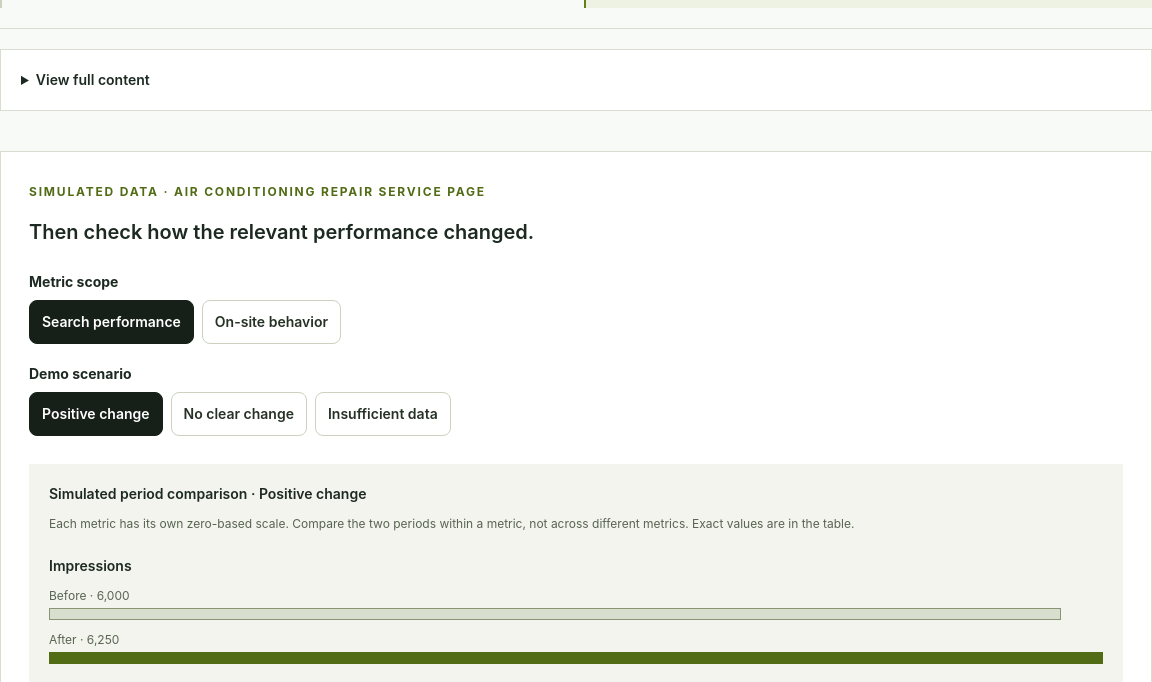
Test: simulated implementation review › changes metric scope and preserves the distinction between events and leads
The image size is (1152, 682).
(page scrolled)
Click the button "On-site behavior". click: (272,322)
box: [202, 300, 341, 344]
(page scrolled)
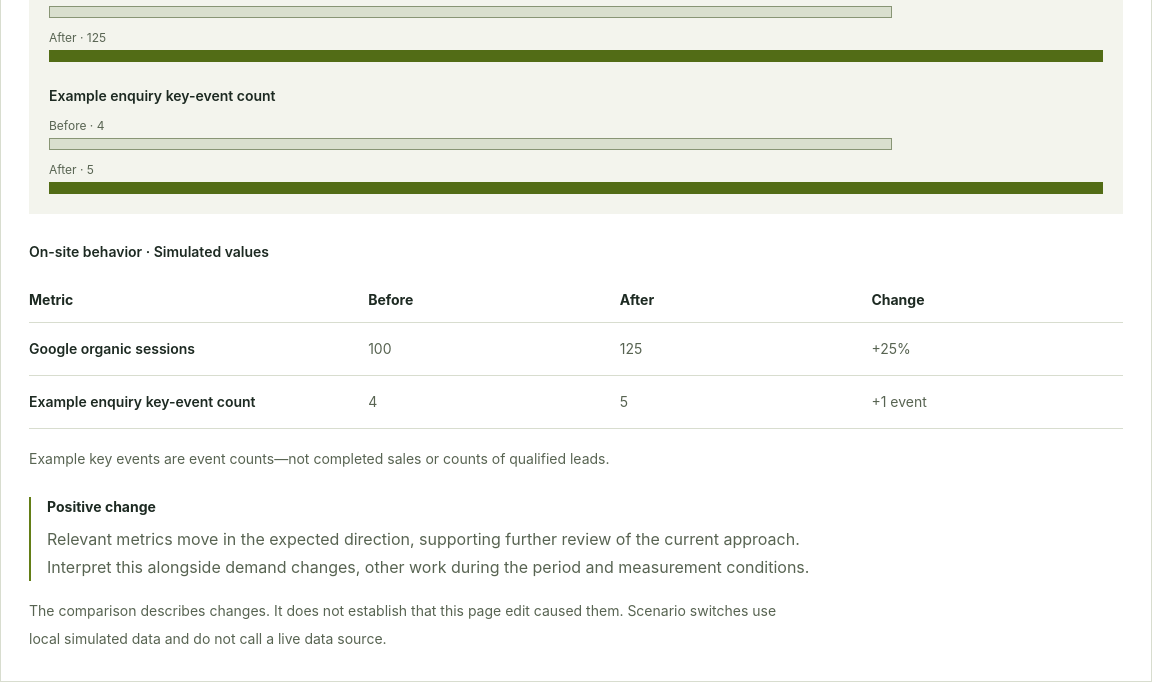
Expected: the text "100" is shown, [368, 340, 392, 357]
Expected: the text "125" is shown, [620, 340, 642, 357]
Expected: the text "+1 event" is shown, [871, 393, 927, 410]
